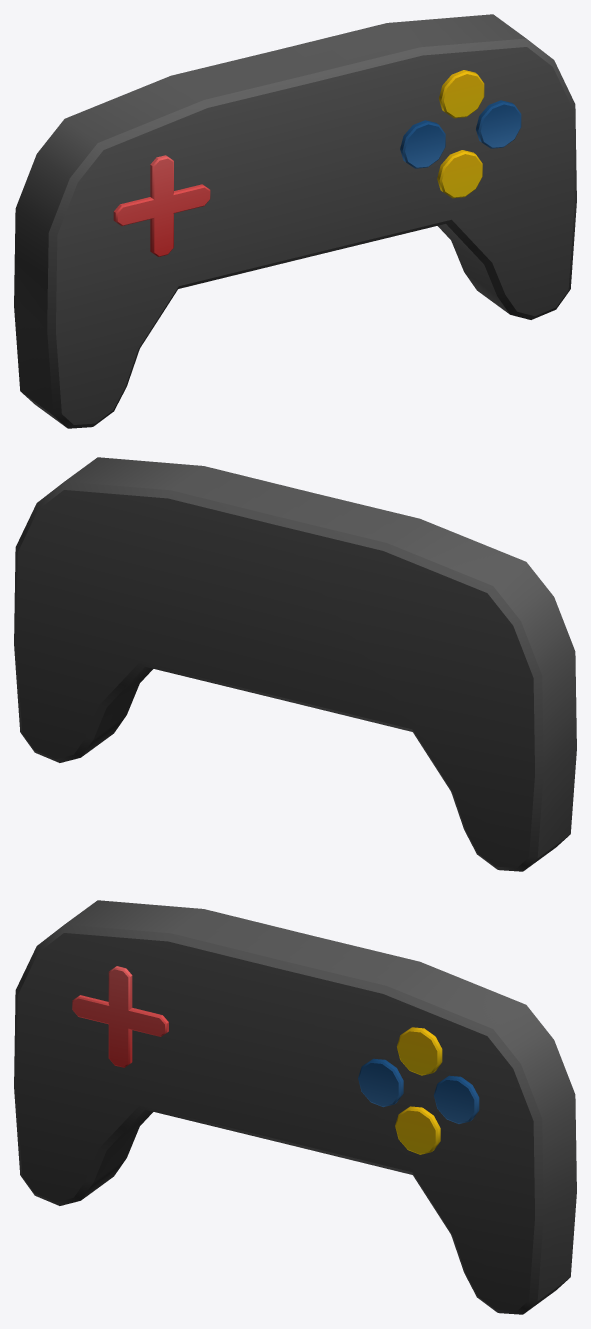
File: Joystick_1.fbx
3 views of the same model, one above another, from view 1: azimuth 30°, elevation 25°; view 2: azimuth 150°, elevation 25°; view 3: azimuth 330°, elevation 25° (orthographic).
Parts seen in each view (by area): view 1: Joystick_1; view 2: Joystick_1; view 3: Joystick_1.
Part boxes in pixels (<box>): Joystick_1: <box>14,14,576,428</box>; Joystick_1: <box>14,457,576,871</box>; Joystick_1: <box>14,900,576,1314</box>.
Bounding box in the file's own units: 0.167 × 0.0903 × 0.0234.
